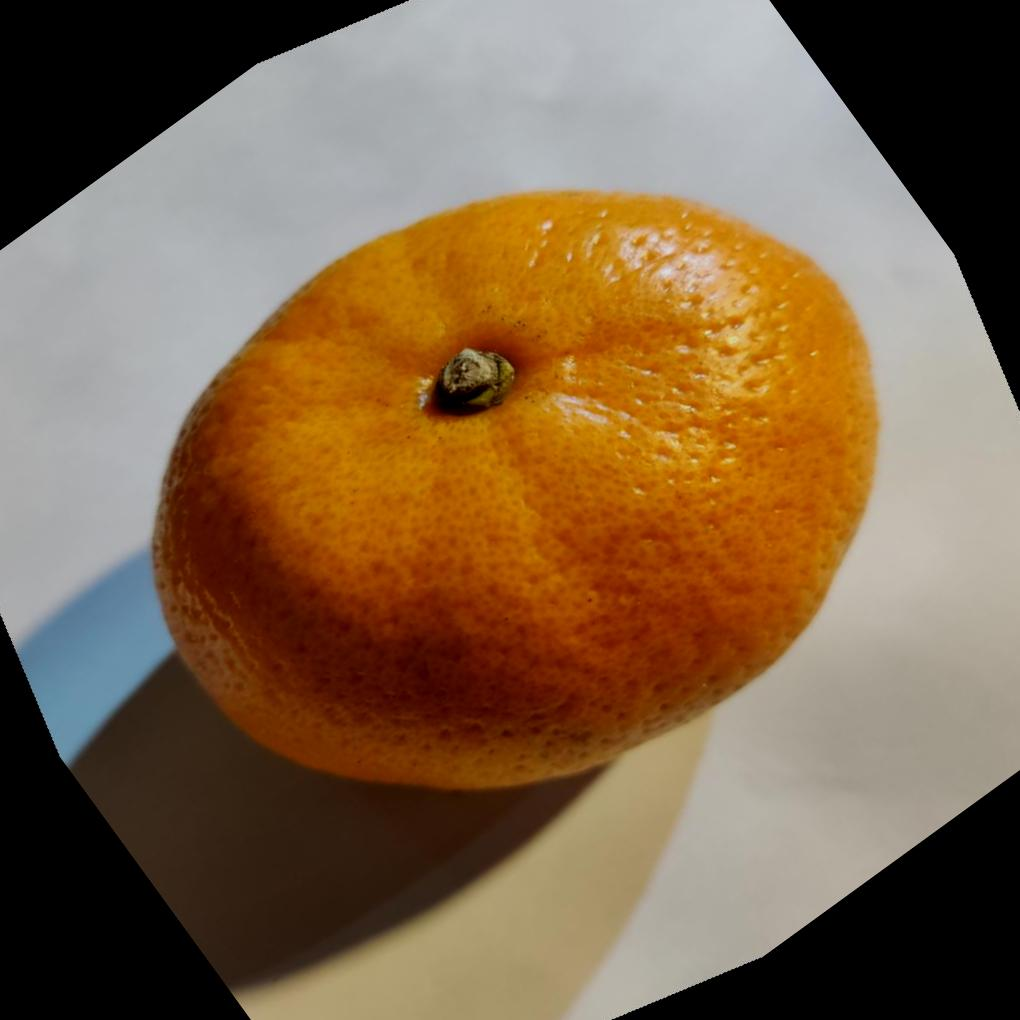FreshGuava: (144, 188, 879, 797)
